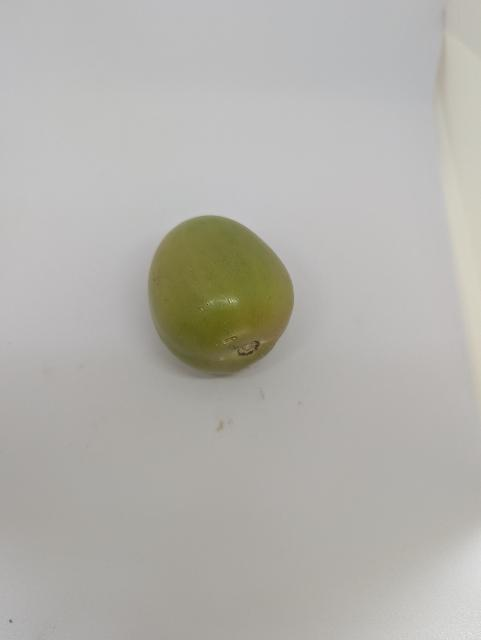green: (134, 207, 308, 381)
